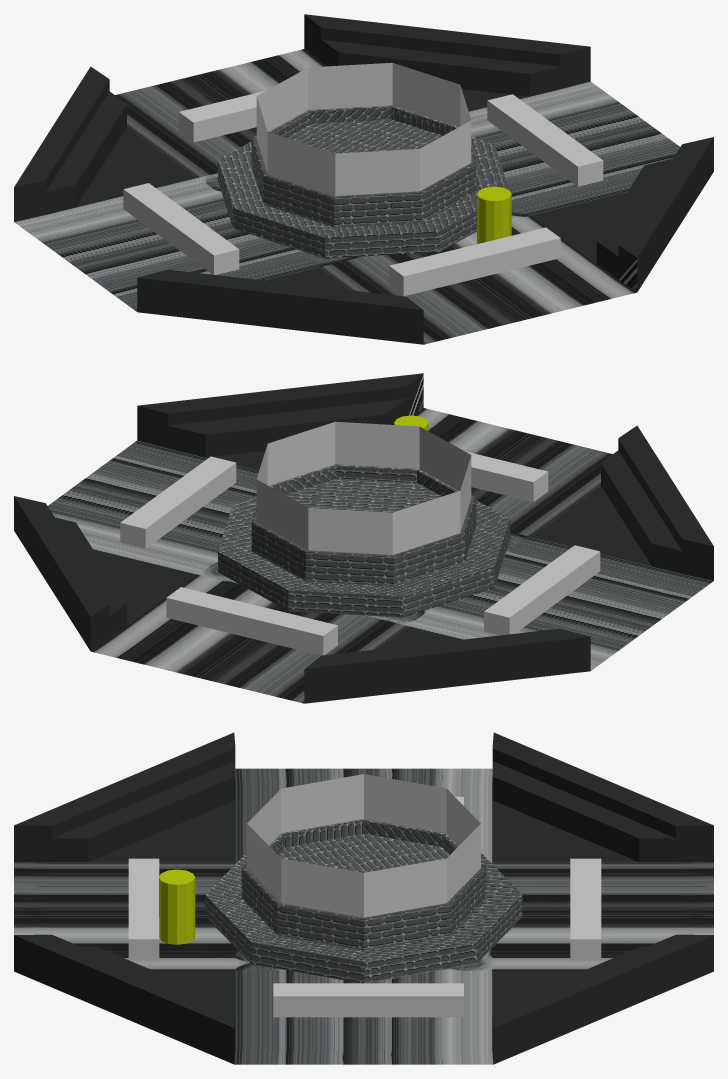
Rendered from haven_center.obj.
3 views of the same model, one above another, from view 1: azimuth 30°, elevation 25°; view 2: azimuth 150°, elevation 25°; view 3: azimuth 270°, elevation 25° (orthographic). The views are drawn at different scales.
Visible parts, largest first — view 1: Geo_Center, Cylinder, Cylinder.001, Cube.003, Cube, Cube.001, Cube.002, ref_PLAYER; view 2: Geo_Center, Cylinder, Cylinder.001, Cube.002, Cube, Cube.001, Cube.003; view 3: Geo_Center, Cylinder, Cylinder.001, Cube, Cube.002, Cube.003, ref_PLAYER.
Part boxes in pixels (box(x1,y1,x2,y2)): Geo_Center: box(14, 14, 713, 344); Cylinder: box(218, 105, 508, 258); Cylinder.001: box(256, 62, 471, 195); Cube.003: box(389, 227, 560, 296); Cube: box(487, 94, 603, 186); Cube.001: box(123, 183, 239, 274); Cube.002: box(179, 90, 265, 142); ref_PLAYER: box(477, 186, 511, 243); Geo_Center: box(14, 373, 713, 703); Cylinder: box(218, 464, 509, 617); Cylinder.001: box(256, 421, 471, 554); Cube.002: box(166, 587, 337, 655); Cube: box(120, 456, 236, 548); Cube.001: box(484, 545, 600, 635); Cube.003: box(465, 451, 548, 501); Geo_Center: box(14, 732, 713, 1064); Cylinder: box(205, 819, 522, 983); Cylinder.001: box(247, 774, 480, 917); Cube: box(273, 983, 463, 1017); Cube.002: box(570, 858, 601, 960); Cube.003: box(128, 858, 159, 960); ref_PLAYER: box(159, 869, 195, 944).
Size of the model in its own units: 18.59 by 2.89 by 18.59.
